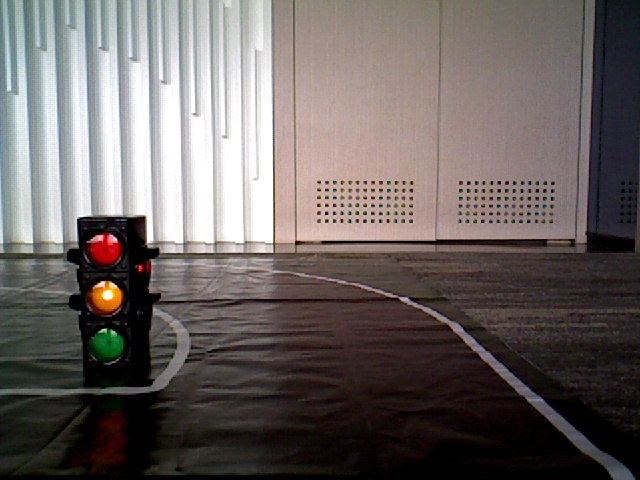yellow: (78, 223, 135, 369)
